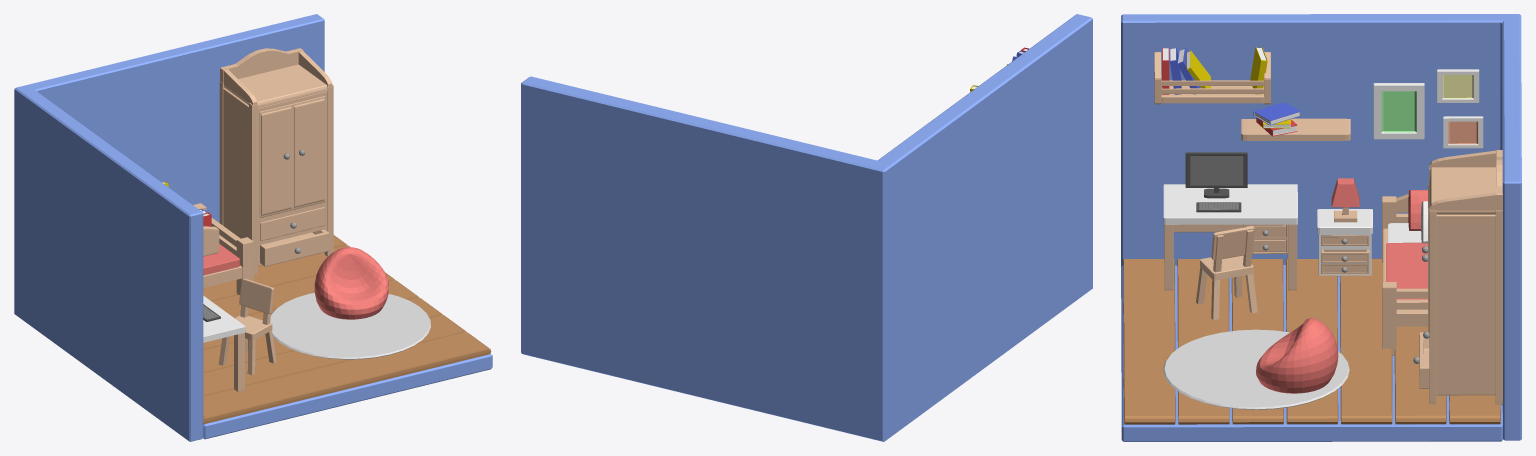
3 views of the same model, side by side, from view 1: azimuth 30°, elevation 25°; view 2: azimuth 150°, elevation 25°; view 3: azimuth 270°, elevation 25° (orthographic). The views are drawn at different scales.
Visible parts, largest first — view 1: Wall, Wardrobe 1, Wood floor 1, Carpet 1, Floor, Seat 1, Chair 1, Bed 1, Table 1, Wall bookshelf.001; view 2: Wall; view 3: Wall, Wood floor 1, Wardrobe 1, Floor, Carpet 1, Table 1, Bed 1, Seat 1, Bedside table 1, Chair 1, Wall bookshelf.001, Picture 1.001 (+9 smaller).
Part boxes in pixels (left/top/right/bottom): Wall: left=14, top=14, right=324, bottom=441; Wardrobe 1: left=219, top=48, right=333, bottom=274; Wood floor 1: left=203, top=235, right=491, bottom=424; Carpet 1: left=270, top=293, right=430, bottom=359; Floor: left=203, top=354, right=492, bottom=439; Seat 1: left=314, top=247, right=388, bottom=319; Chair 1: left=218, top=278, right=276, bottom=375; Bed 1: left=193, top=203, right=253, bottom=294; Table 1: left=203, top=295, right=245, bottom=391; Wall bookshelf.001: left=203, top=226, right=219, bottom=256; Wall: left=521, top=14, right=1092, bottom=441; Wall: left=1121, top=14, right=1521, bottom=440; Wood floor 1: left=1123, top=258, right=1500, bottom=424; Wardrobe 1: left=1413, top=150, right=1502, bottom=405; Floor: left=1121, top=265, right=1502, bottom=441; Carpet 1: left=1163, top=329, right=1349, bottom=409; Table 1: left=1163, top=184, right=1297, bottom=290; Bed 1: left=1382, top=190, right=1427, bottom=355; Seat 1: left=1256, top=318, right=1338, bottom=393; Bedside table 1: left=1317, top=209, right=1372, bottom=276; Chair 1: left=1196, top=226, right=1257, bottom=319; Wall bookshelf.001: left=1154, top=52, right=1270, bottom=104; Picture 1.001: left=1373, top=83, right=1424, bottom=139.
Size of the model in its own units: 3.2 by 2.29 by 3.2.
